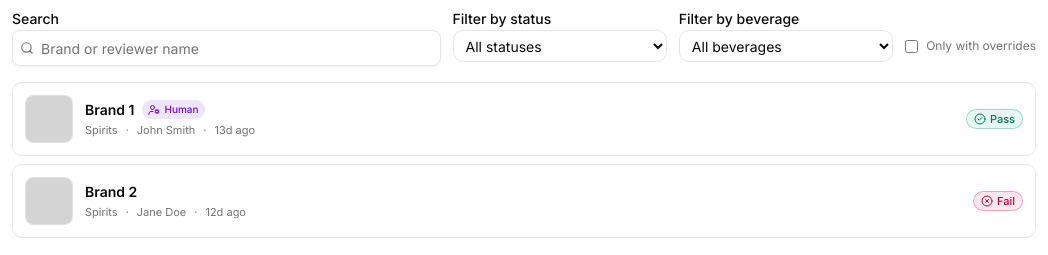
ReviewHistoryList › filters by overall status
Select "Fail" in the dropdown labelled "Filter by status". click: (560, 46)
box: [453,30,667,62]
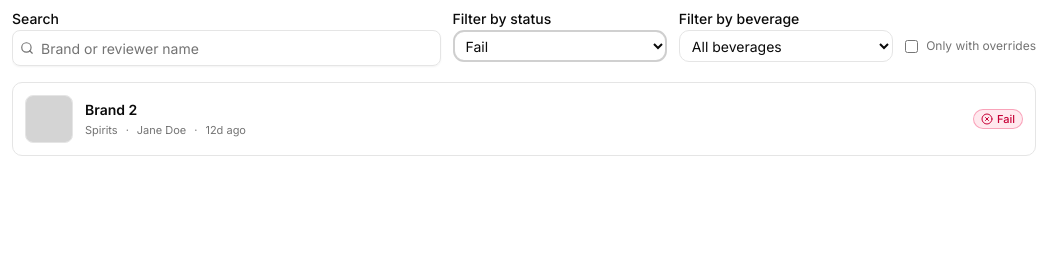
expect the number of list items with test id "review-history-row" is 1: met, box [12,82,1036,156]
